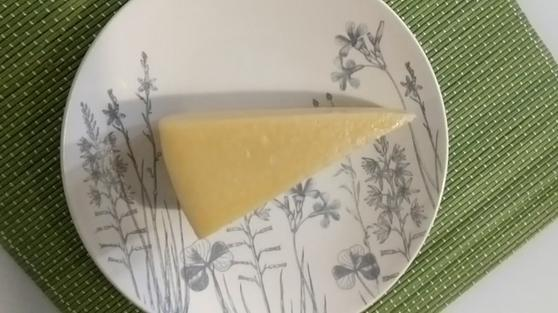cheese: (156, 105, 418, 241)
